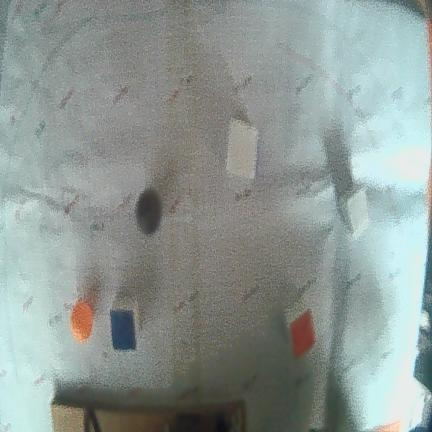circle_blue: (136, 188, 162, 233)
circle_orange: (73, 305, 93, 341)
square_blue: (111, 311, 135, 348)
square_orange: (292, 309, 316, 361)
